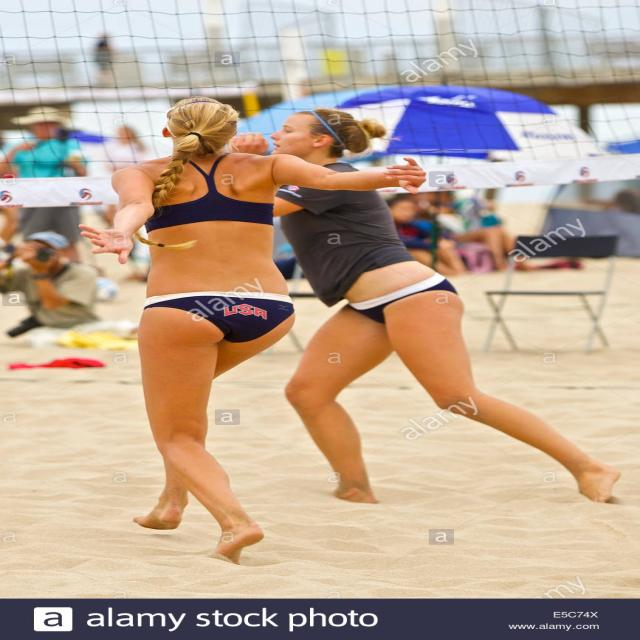body: (75, 94, 432, 568), (220, 105, 626, 511), (0, 133, 640, 277), (0, 104, 89, 268), (0, 230, 102, 348)
